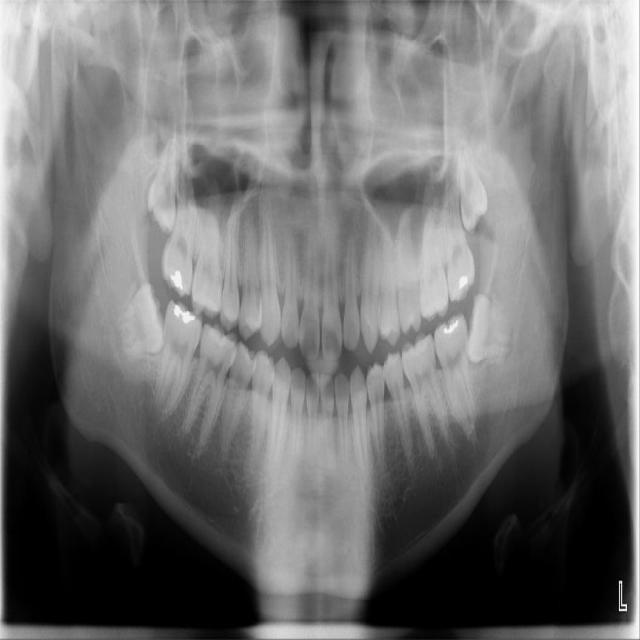3M ESPE Implant: (146, 137, 179, 236)
52: (152, 297, 213, 355), (424, 309, 479, 370), (444, 245, 479, 305), (162, 232, 193, 299)
73: (589, 568, 592, 572)
BioHorizons Implant: (435, 161, 479, 305)
BioLife Implant: (455, 139, 489, 235)
Biomet 3i Implant: (463, 291, 518, 368)
Blue Sky Bio Implant: (430, 310, 479, 434)
Caries: (158, 165, 203, 299)
Implant: (154, 299, 205, 416)
Keystone Dental Implant: (105, 280, 175, 364)
